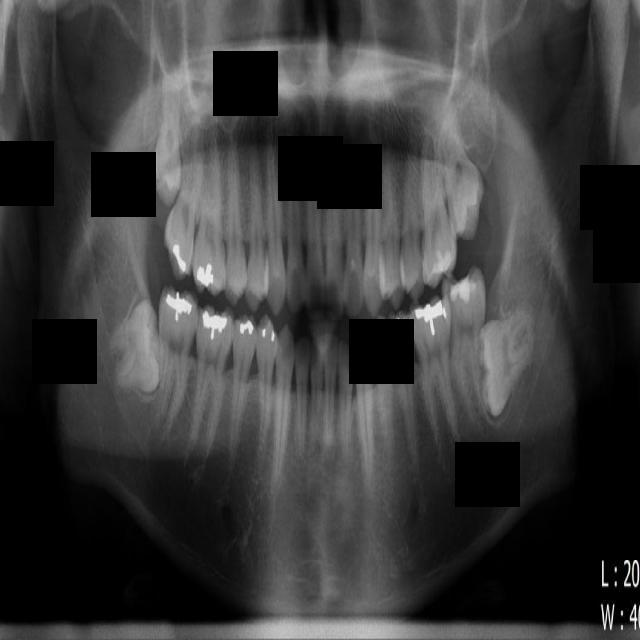3M ESPE Implant: (151, 59, 185, 209)
52: (402, 292, 461, 360), (437, 263, 491, 334), (151, 282, 205, 349), (191, 303, 238, 367), (421, 213, 458, 291), (162, 201, 195, 281), (191, 227, 226, 296), (249, 312, 283, 373), (366, 314, 395, 374), (386, 310, 415, 365), (230, 312, 258, 368), (342, 253, 365, 318)
73: (618, 538, 634, 548)
BioHorizons Implant: (428, 97, 494, 245)
Biomet 3i Implant: (477, 312, 539, 418)
Blue Sky Bio Implant: (440, 265, 490, 428)
Caries: (158, 110, 211, 283)
Implant: (151, 284, 200, 434)
Keystone Dental Implant: (100, 297, 173, 400)
